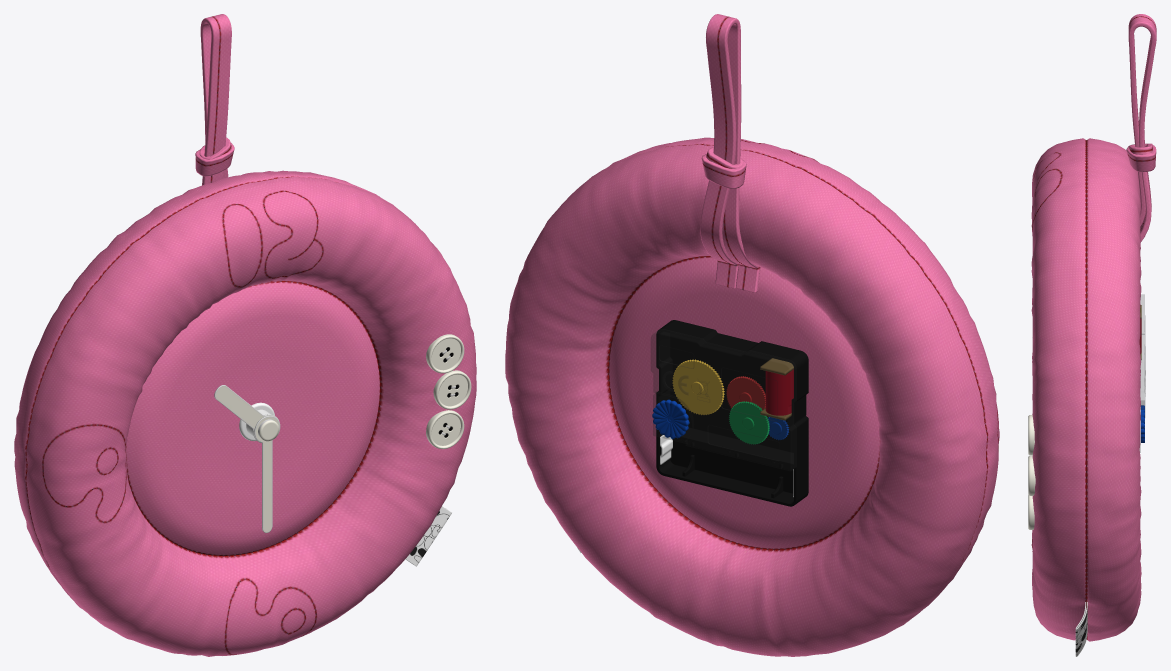
The picture shows the model from 3 angles, left to right: view 1: azimuth 30°, elevation 25°; view 2: azimuth 150°, elevation 25°; view 3: azimuth 270°, elevation 25°; orthographic projection. The views are drawn at different scales.
Visible parts, largest first — view 1: clock98019; view 2: clock98019; view 3: clock98019.
Boxes of the visible parts, x1=… form: clock98019: x1=14, y1=14, x2=476, y2=656; clock98019: x1=505, y1=14, x2=999, y2=656; clock98019: x1=1028, y1=14, x2=1156, y2=656.
Bounding box in the file's own units: 0.1865 × 0.2447 × 0.0474.
Materials: 2 (1 with a texture image).
